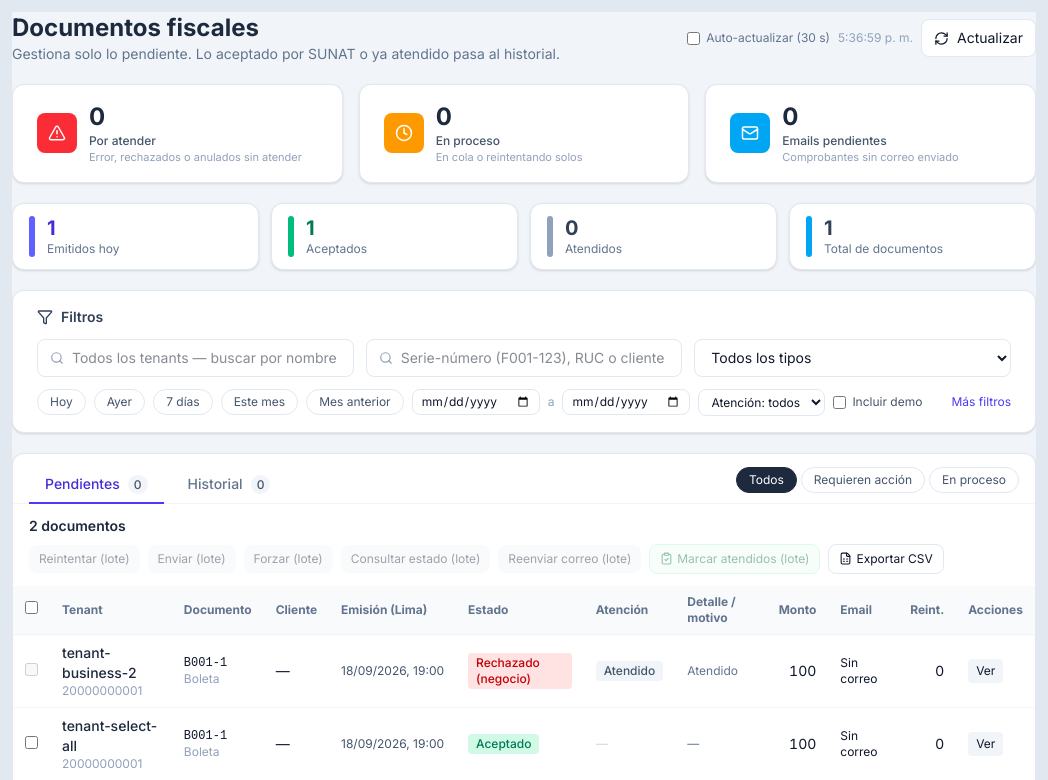
Test: "Atendido" (2026-09-22) — independiente del status técnico, nunca se mezcla con fiscalGroup › "seleccionar todos" solo marca los documentos no atendidos
The width and height of the screenshot is (1048, 780).
Expected: the text "tenant-business-2" is shown, [62,644,137,680]
Click the checkbox named "Seleccionar todos" at (32, 608), box [25,601,38,614]
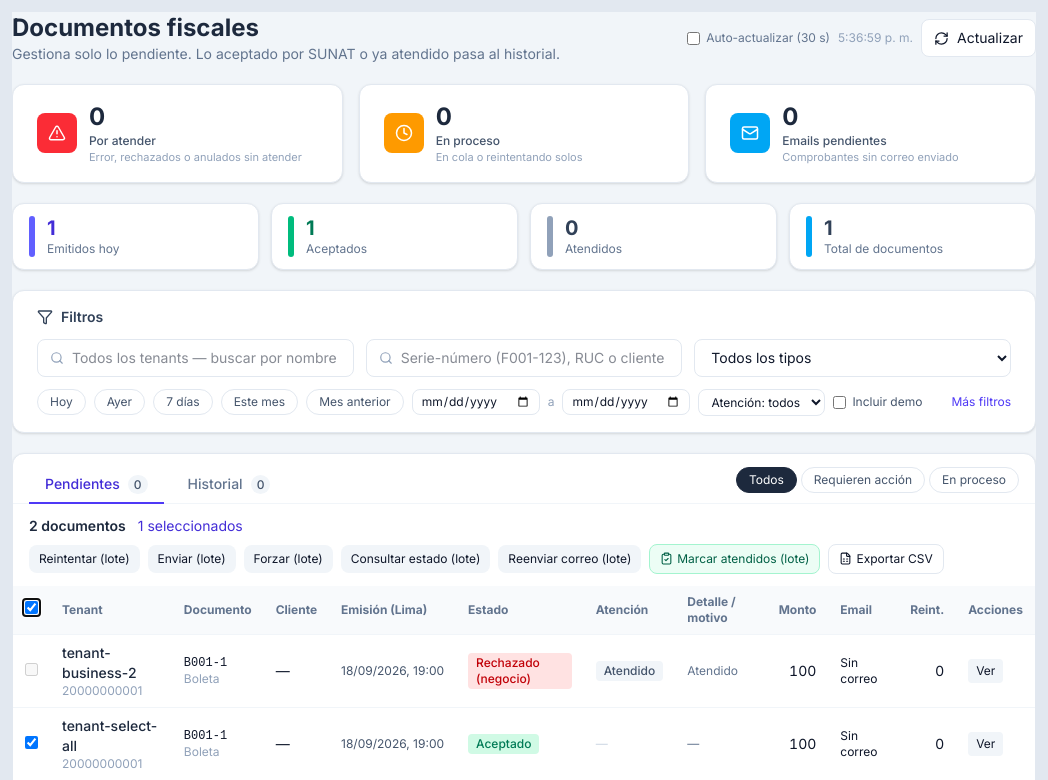
Expected: the checkbox named "Seleccionar B001-1" below "tenant-business-2" is not checked, [25,662,38,676]
Result: the text "1 seleccionados" is shown at [138,516,243,534]
Result: the checkbox named "Seleccionar B001-1" below "tenant-select-all" is checked at [25,736,38,748]
